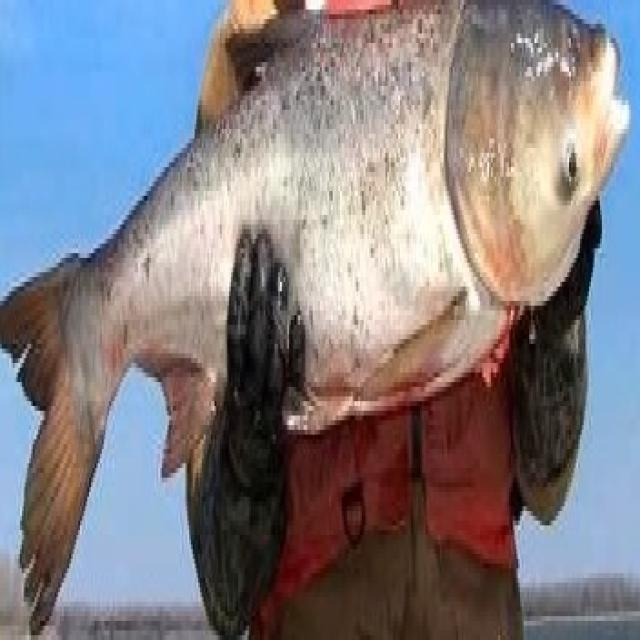Big-Head-Carp: (0, 5, 636, 640)
